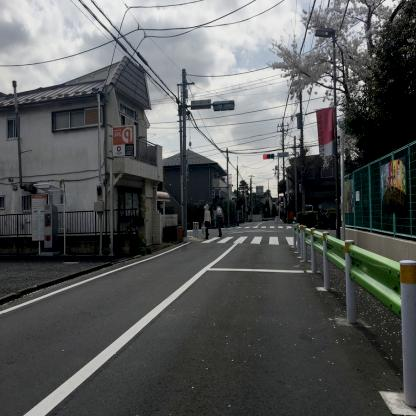Someiyoshino: (264, 0, 400, 104)
